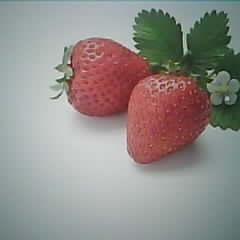straw-ripe: (125, 73, 211, 161), (68, 38, 155, 117)
